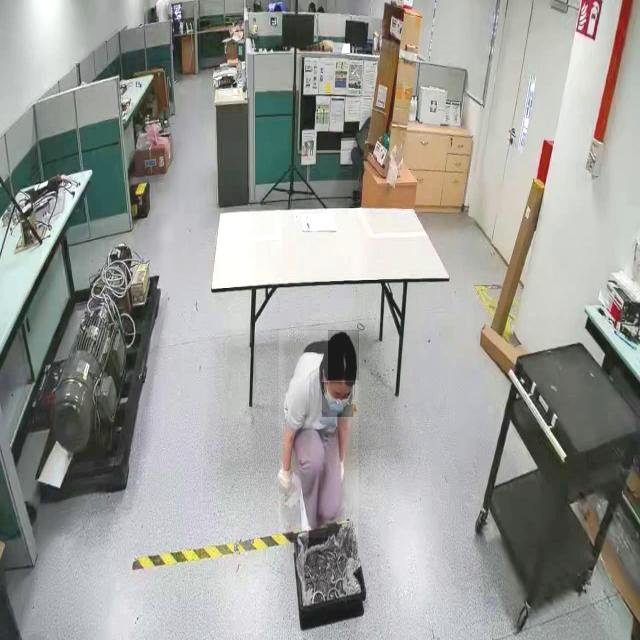face_mask: (322, 382, 353, 417)
hand_glove: (278, 467, 292, 494)
head_nohelmet: (327, 330, 359, 381)
person: (278, 331, 358, 538)
